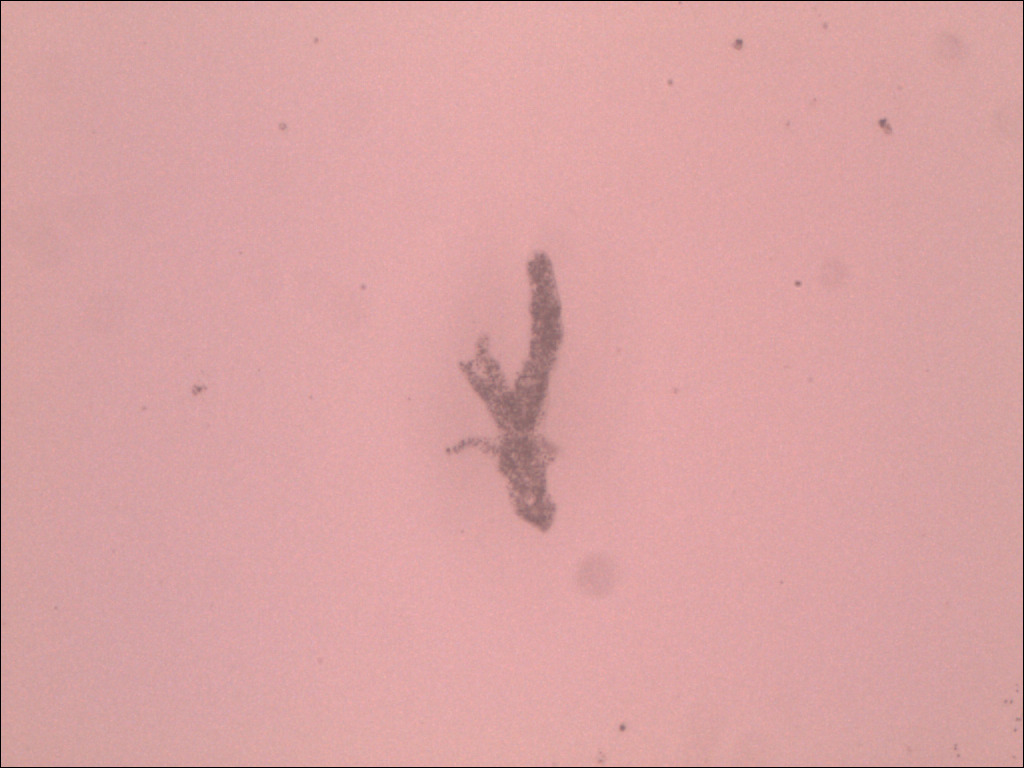amoeba: (435, 242, 598, 542)
